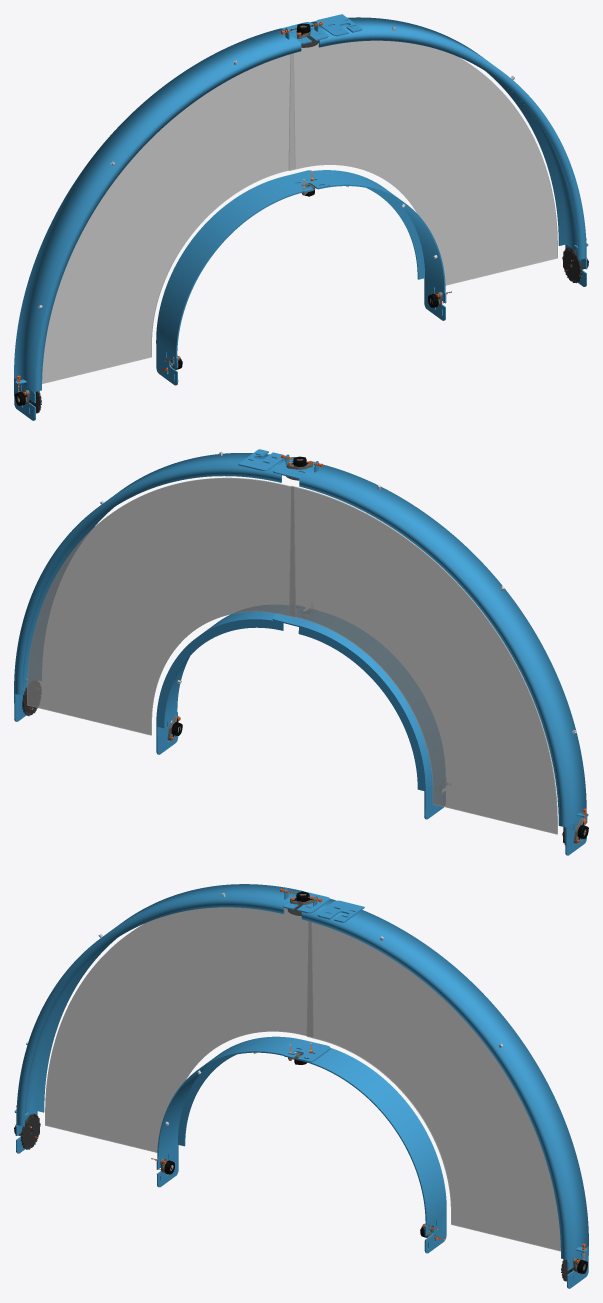
The model's file is fixtures_curved.obj.
The picture shows the model from 3 angles, top to bottom: view 1: azimuth 30°, elevation 25°; view 2: azimuth 150°, elevation 25°; view 3: azimuth 330°, elevation 25°; orthographic projection.
Visible parts, largest first — view 1: base.001; view 2: base.001; view 3: base.001.
Boxes of the visible parts, <box> form: base.001: <box>14,14,588,420</box>; base.001: <box>14,449,588,855</box>; base.001: <box>14,884,588,1288</box>.
Bounding box in the file's own units: 2.86 × 1.55 × 0.185.
